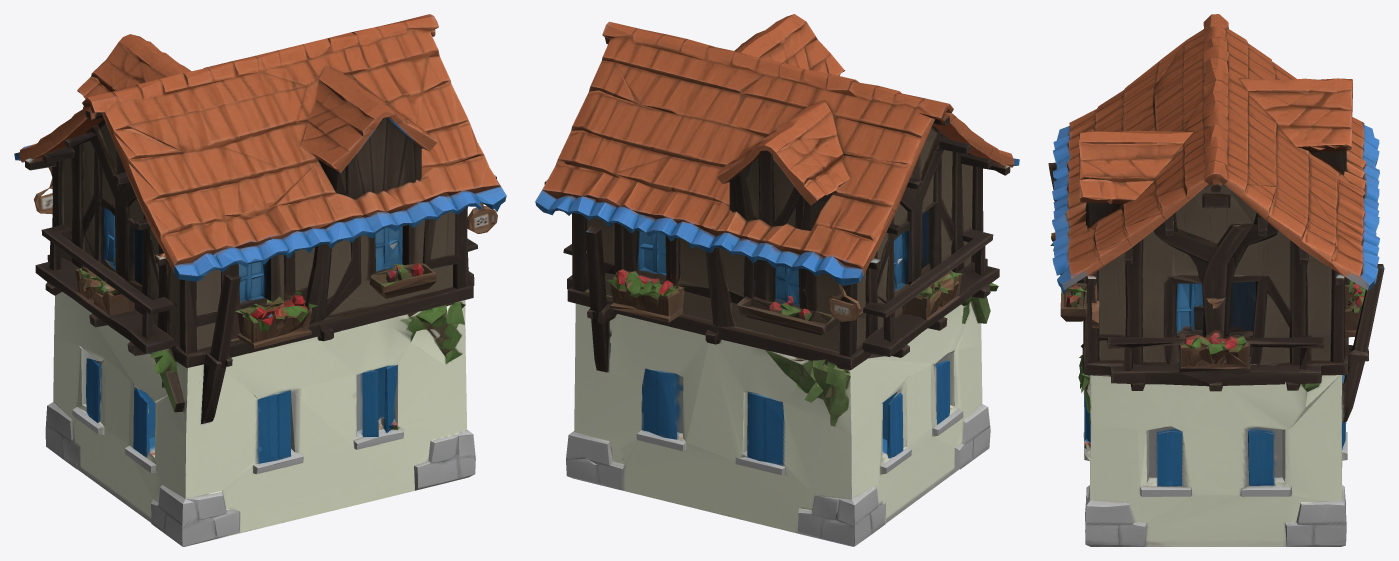
File: inn.glb
The picture shows the model from 3 angles, left to right: view 1: azimuth 30°, elevation 25°; view 2: azimuth 150°, elevation 25°; view 3: azimuth 270°, elevation 25°; orthographic projection. The views are drawn at different scales.
Parts seen in each view (by area): view 1: inn; view 2: inn; view 3: inn.
Boxes of the visible parts, x1,y1,x2,y2 form: inn: (14,14,506,546); inn: (535,14,1019,546); inn: (1048,14,1384,546).
Bounding box in the file's own units: 7.62 × 8.5 × 6.66.
Materials: 1 (1 with a texture image).
